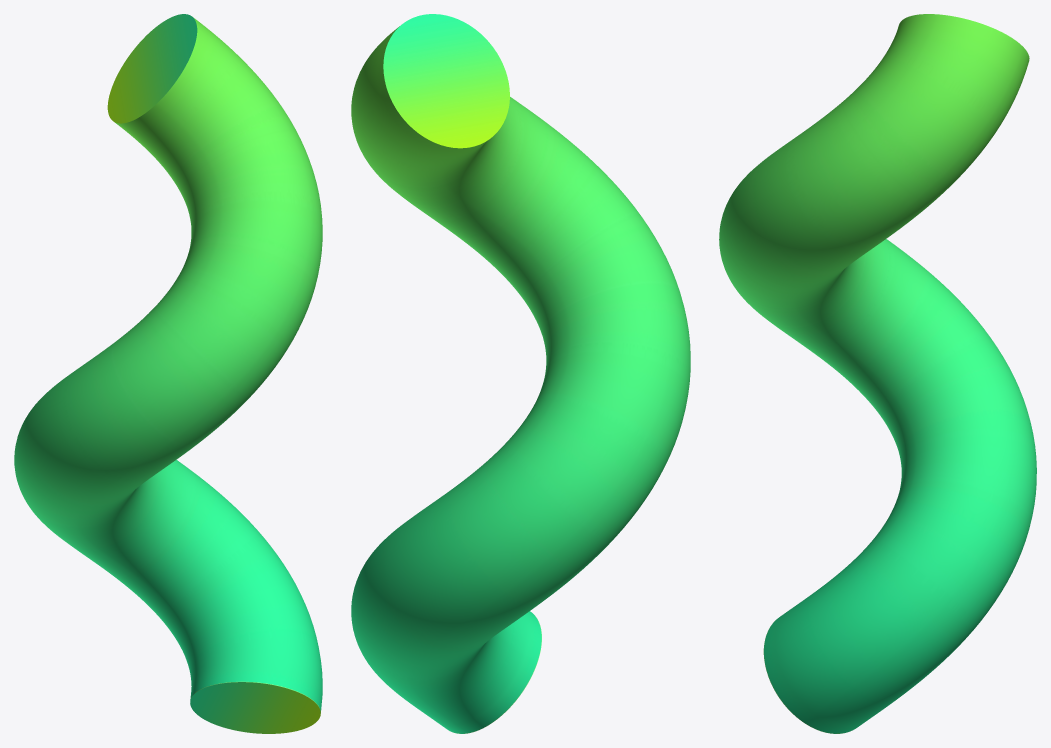
The model's file is Wiggle_Line_02.obj.
3 renders of one model, left to right at view 1: azimuth 30°, elevation 25°; view 2: azimuth 150°, elevation 25°; view 3: azimuth 270°, elevation 25°, orthographic. The views are drawn at different scales.
Parts seen in each view (by area): view 1: Corg_3_Blue.1, Cap_2, Cap_1; view 2: Corg_3_Blue.1, Cap_2; view 3: Corg_3_Blue.1.
Part boxes in pixels (box(x1,y1,x2,y2)): Corg_3_Blue.1: box(14, 16, 322, 712); Cap_2: box(107, 14, 197, 123); Cap_1: box(190, 682, 320, 733); Corg_3_Blue.1: box(351, 26, 690, 733); Cap_2: box(383, 14, 509, 148); Corg_3_Blue.1: box(719, 14, 1036, 733).
Bounding box in the file's own units: 174 × 425 × 174.
